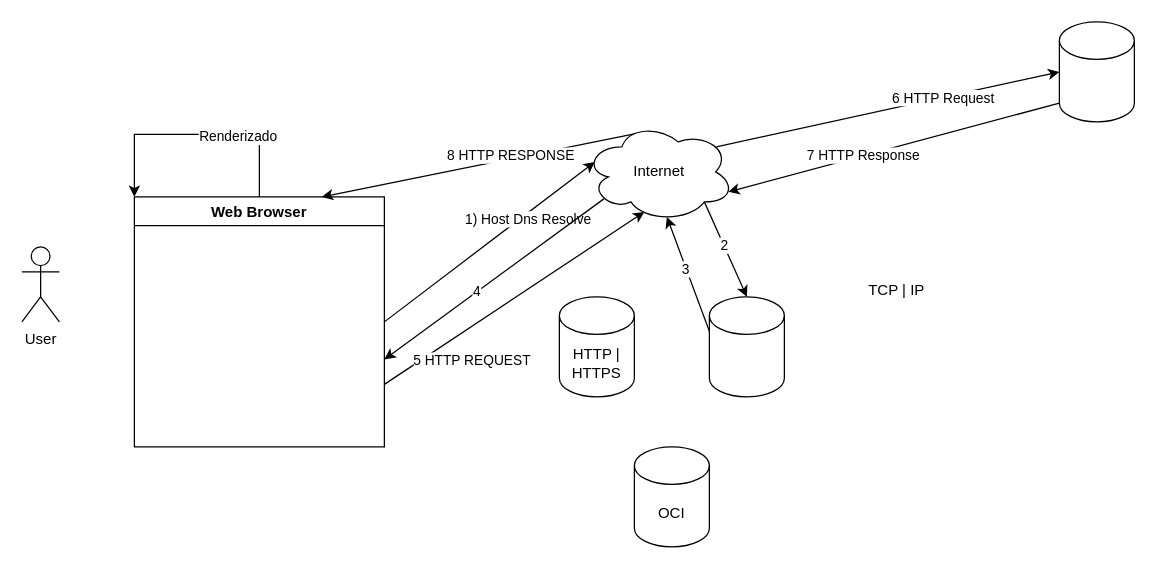
This 1161x569 diagram has some shape labels left out. The box of each missing label's shape, as (x1, y1, x2, y2) in pixels:
DNS: (708, 296, 784, 397)
Recursos (webservers): (1058, 21, 1134, 122)
